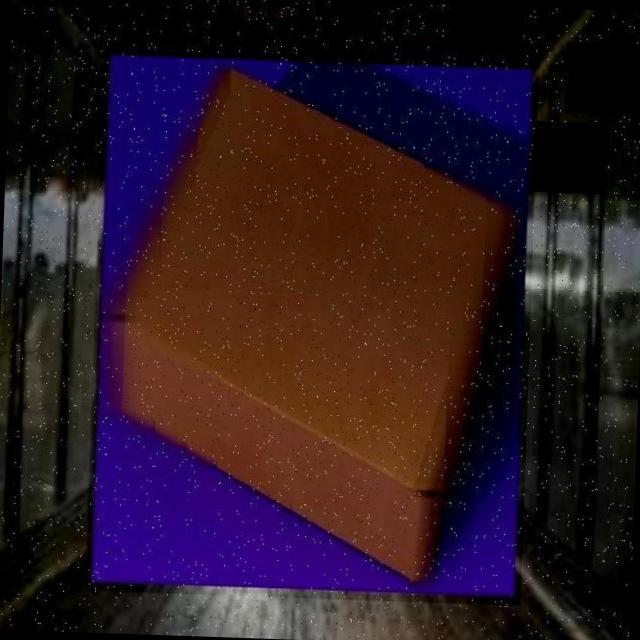box: (85, 46, 540, 605)
